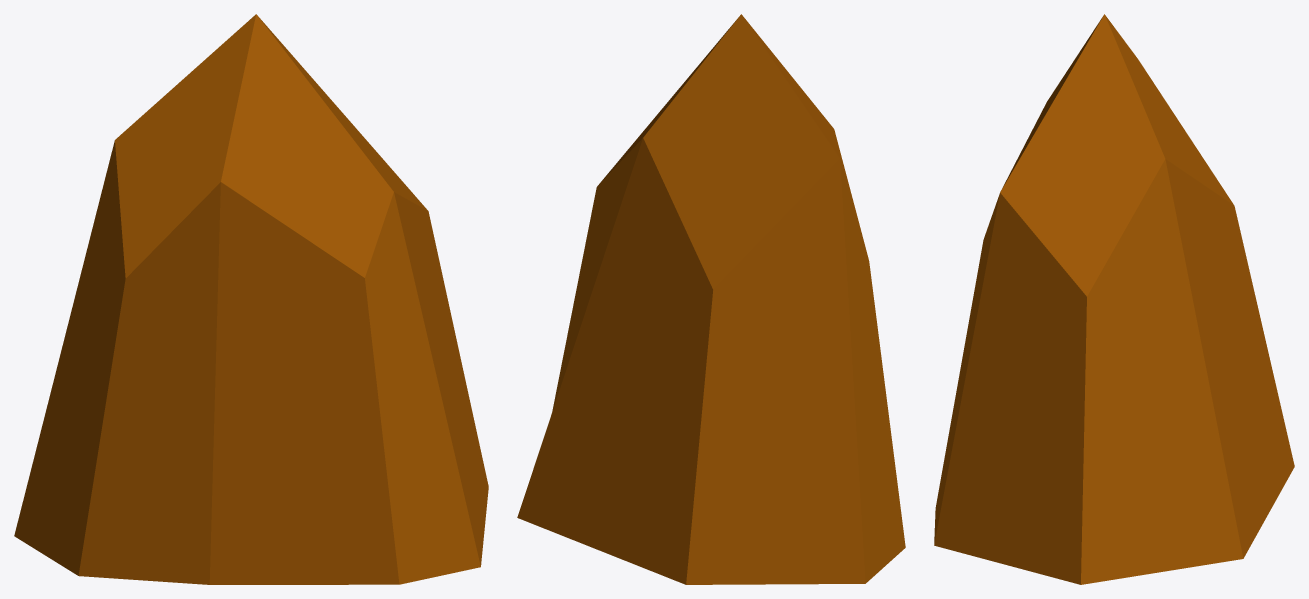
Rendered from Rock.fbx.
3 renders of one model, left to right at view 1: azimuth 30°, elevation 25°; view 2: azimuth 150°, elevation 25°; view 3: azimuth 270°, elevation 25°, orthographic. The views are drawn at different scales.
Parts seen in each view (by area): view 1: Rock_01; view 2: Rock_01; view 3: Rock_01.
Part boxes in pixels (x1=…): Rock_01: x1=14, y1=14, x2=488, y2=584; Rock_01: x1=517, y1=14, x2=905, y2=584; Rock_01: x1=934, y1=14, x2=1294, y2=584.
Bounding box in the file's own units: 3 × 3.67 × 2.52.
